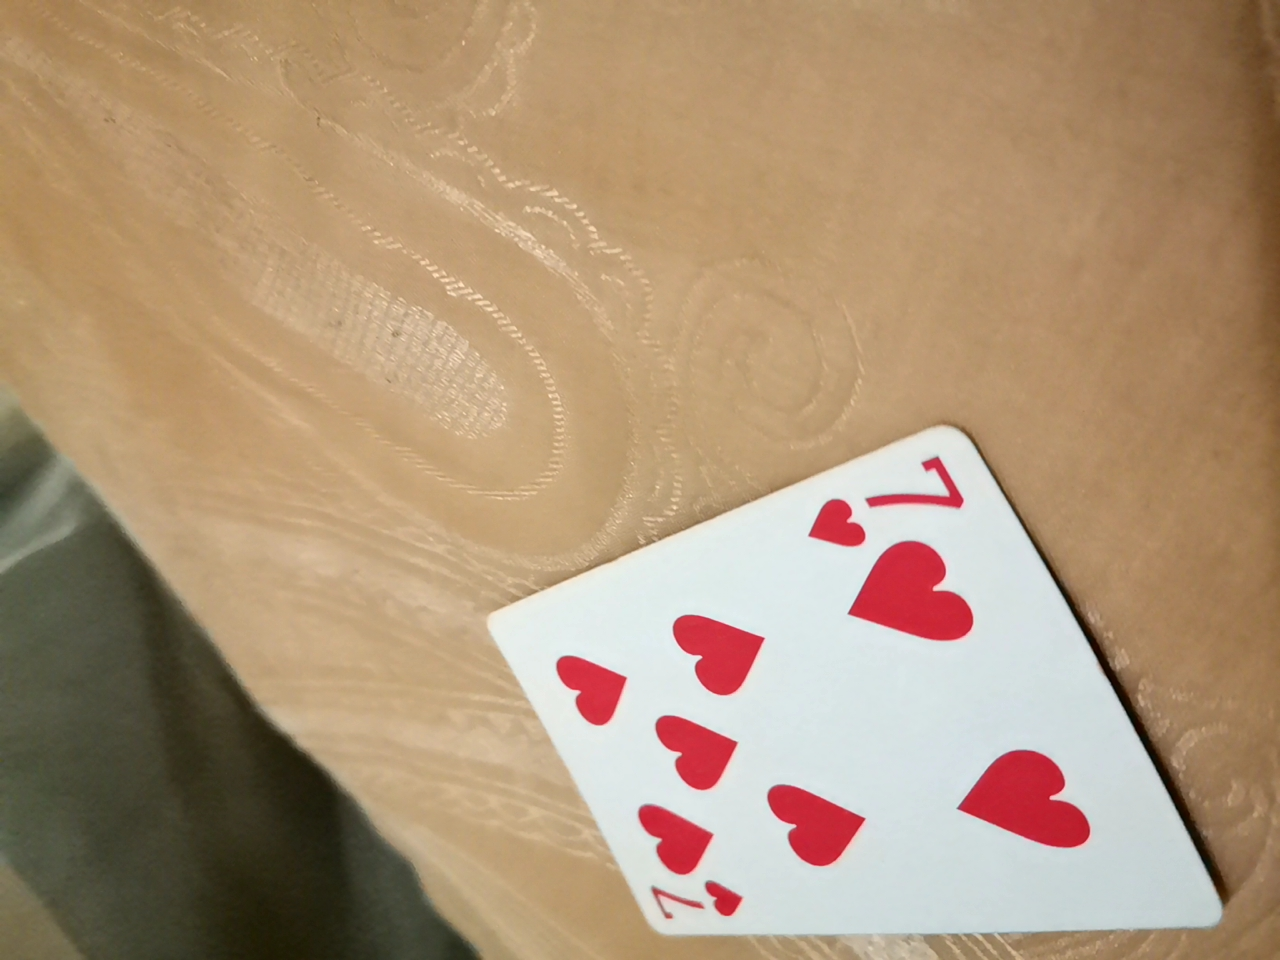hx 7: (503, 437, 1214, 921)
